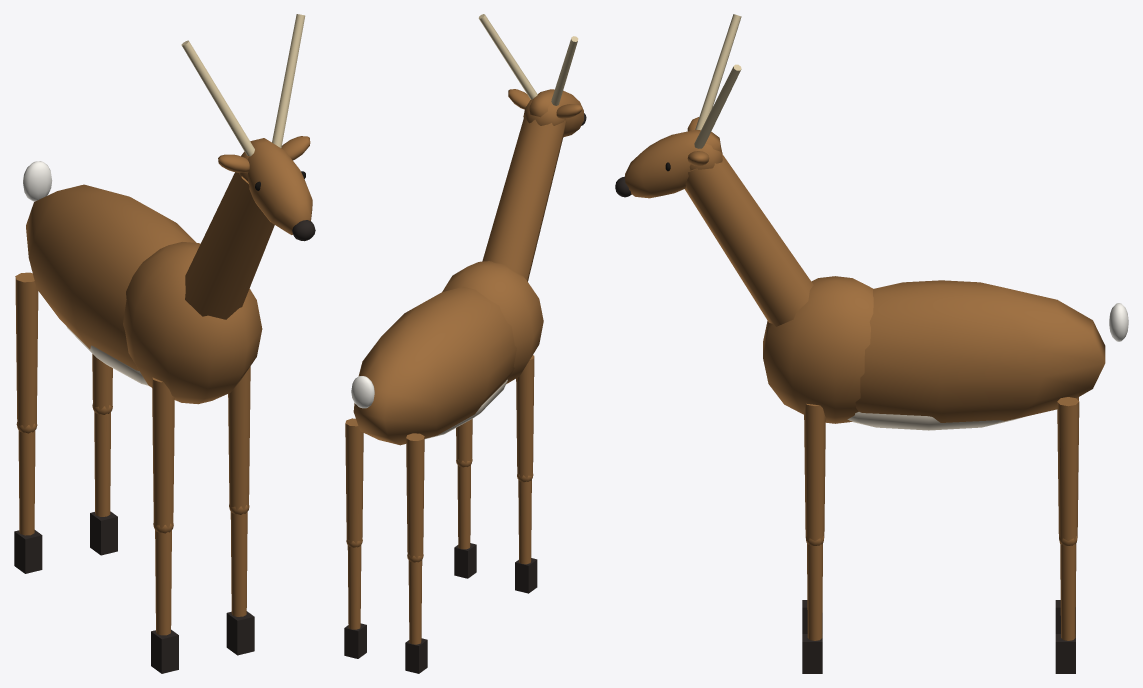
The model's file is ciervo.glb.
The picture shows the model from 3 angles, left to right: view 1: azimuth 30°, elevation 25°; view 2: azimuth 150°, elevation 25°; view 3: azimuth 270°, elevation 25°; orthographic projection. The views are drawn at different scales.
Visible parts, largest first — view 1: ciervo, object 13, object 7, object 16, object 10, object 17, object 8, object 11, object 14; view 2: ciervo, object 13, object 16, object 7, object 10, object 11, object 8, object 17, object 14; view 3: ciervo, object 10, object 16, object 17, object 11.
Part boxes in pixels (x1,y1,x2,y2): ciervo: [15, 14, 315, 528]; object 13: [155, 530, 171, 635]; object 7: [18, 430, 35, 535]; object 16: [230, 512, 247, 616]; object 10: [94, 411, 111, 516]; object 17: [226, 611, 254, 655]; object 8: [14, 530, 42, 573]; object 11: [90, 511, 117, 555]; object 14: [151, 629, 178, 673]; ciervo: [345, 14, 586, 558]; object 13: [518, 480, 531, 564]; object 16: [457, 465, 470, 549]; object 7: [408, 560, 422, 644]; object 10: [347, 545, 361, 629]; object 11: [344, 623, 366, 658]; object 8: [405, 638, 427, 673]; object 17: [454, 543, 476, 578]; object 14: [515, 558, 537, 593]; ciervo: [615, 14, 1128, 540]; object 10: [1060, 543, 1076, 640]; object 16: [807, 543, 822, 640]; object 17: [802, 634, 822, 673]; object 11: [1055, 634, 1075, 673].
Bounding box in the file's own units: 0.5207 × 2.67 × 2.03.
